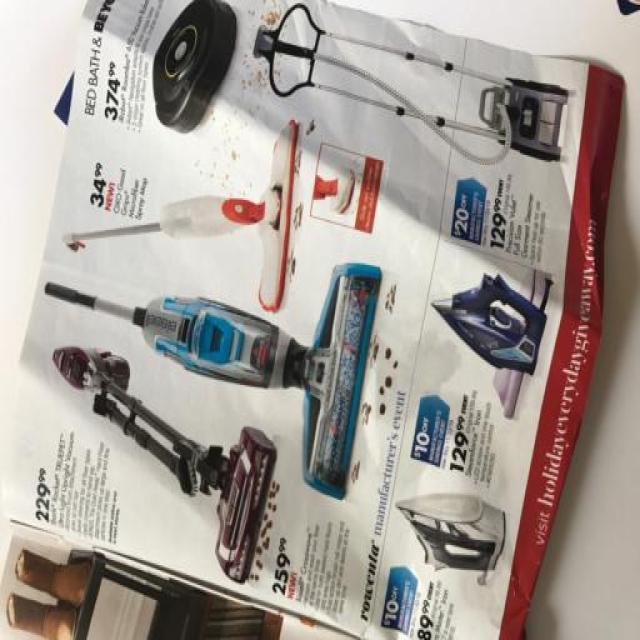paper: (0, 0, 624, 638)
